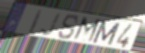4: (115, 23, 133, 49)
I: (27, 9, 45, 36)
J: (39, 12, 62, 37)
M: (71, 15, 103, 44), (90, 19, 122, 47)
S: (57, 14, 80, 40)
